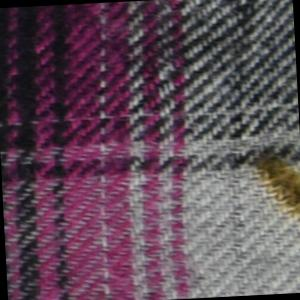Damage: (263, 161, 300, 215)
Oil Stain: (244, 147, 300, 235)
